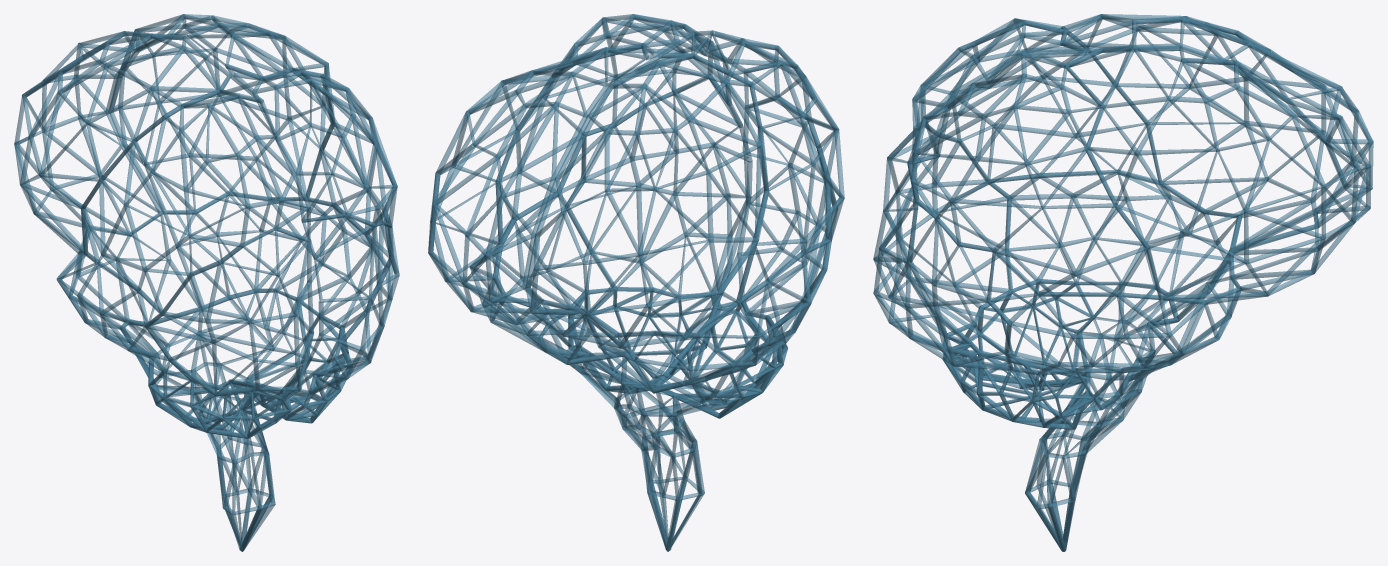
File: Brain.glb
3 views of the same model, side by side, from view 1: azimuth 30°, elevation 25°; view 2: azimuth 150°, elevation 25°; view 3: azimuth 270°, elevation 25° (orthographic). The views are drawn at different scales.
Visible parts, largest first — view 1: brain_lambert1_0; view 2: brain_lambert1_0; view 3: brain_lambert1_0.
Part boxes in pixels (x1,y1,x2,y2): brain_lambert1_0: (14, 14, 399, 551); brain_lambert1_0: (428, 14, 844, 551); brain_lambert1_0: (873, 14, 1373, 551).
Bounding box in the file's own units: 6.77 × 11.03 × 9.63.
Materials: 1 (1 with a texture image).
